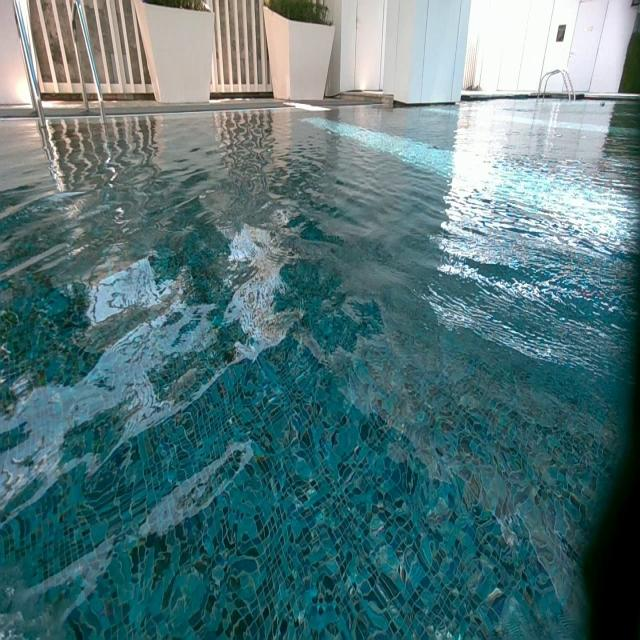Cans: (599, 102, 606, 109)
